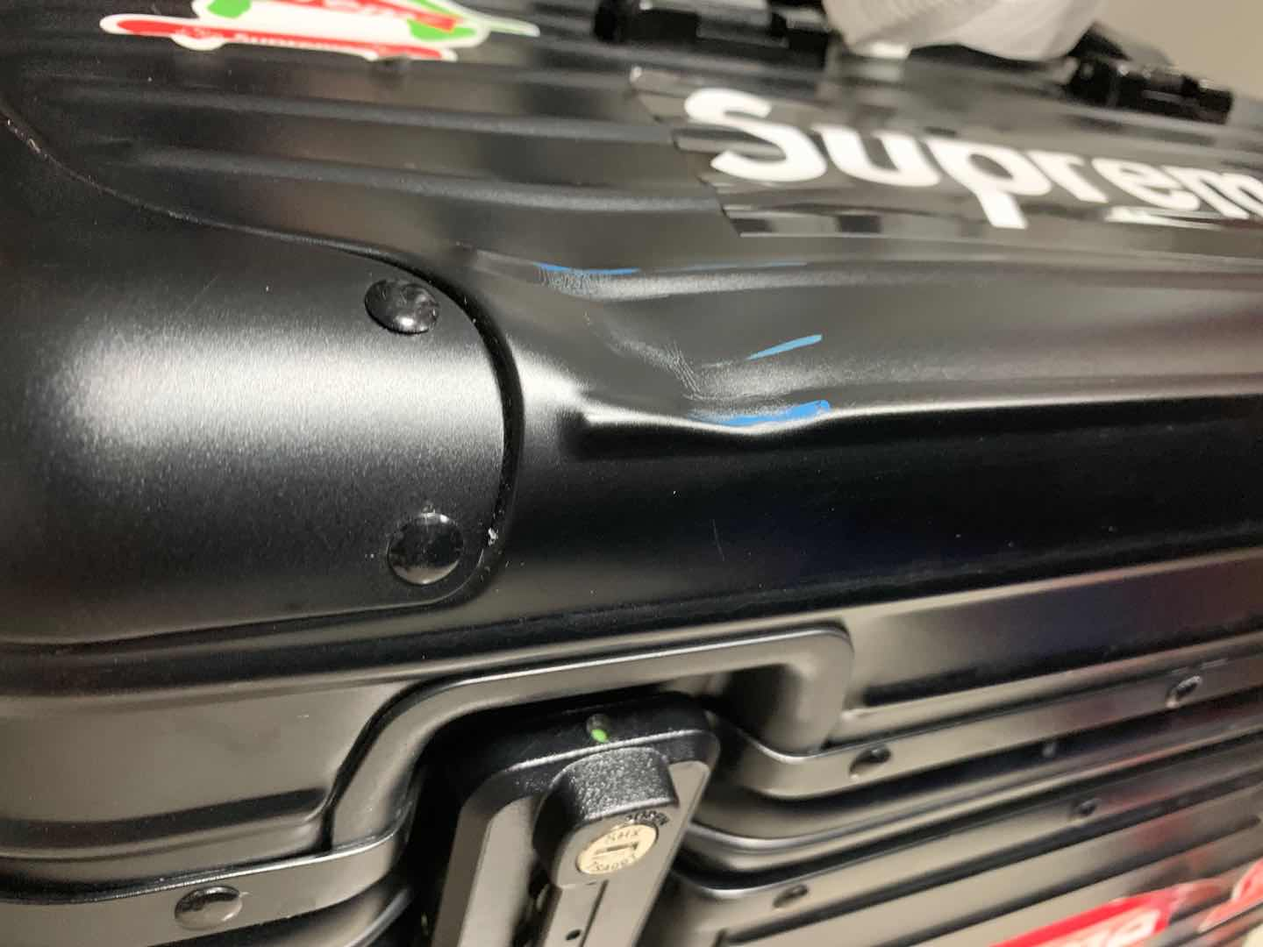rupture: (531, 253, 803, 445)
